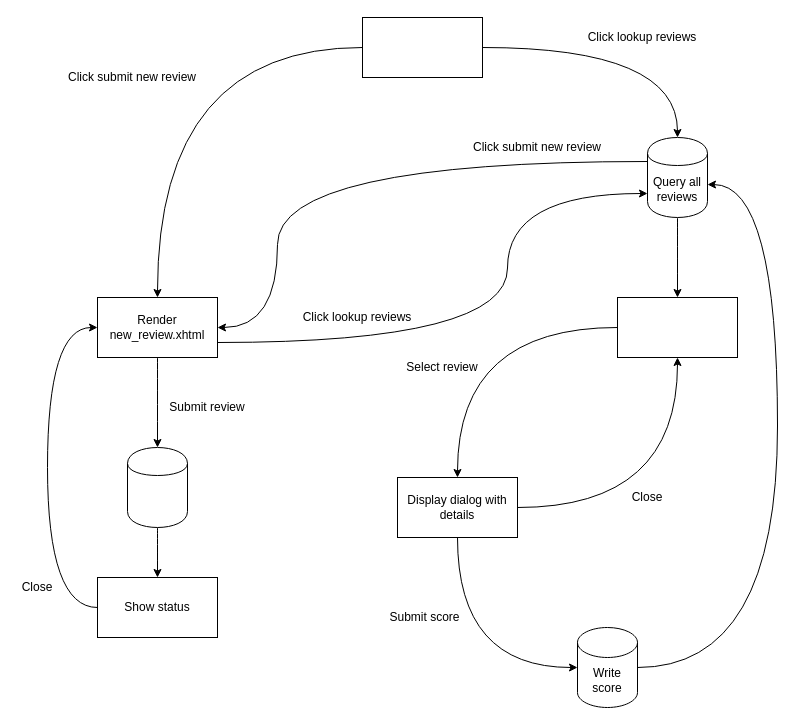
The diagram is 795 pixels wide and 725 high, and some of its shapes have lost their labels. Here are the shapes that lost their labels. From the top down, the centre of each, then its label:
At (x=422, y=47): "Render index.xhtml (Landing page)".
At (x=677, y=327): "Render lookup.xhtml".
At (x=157, y=487): "Write review".
